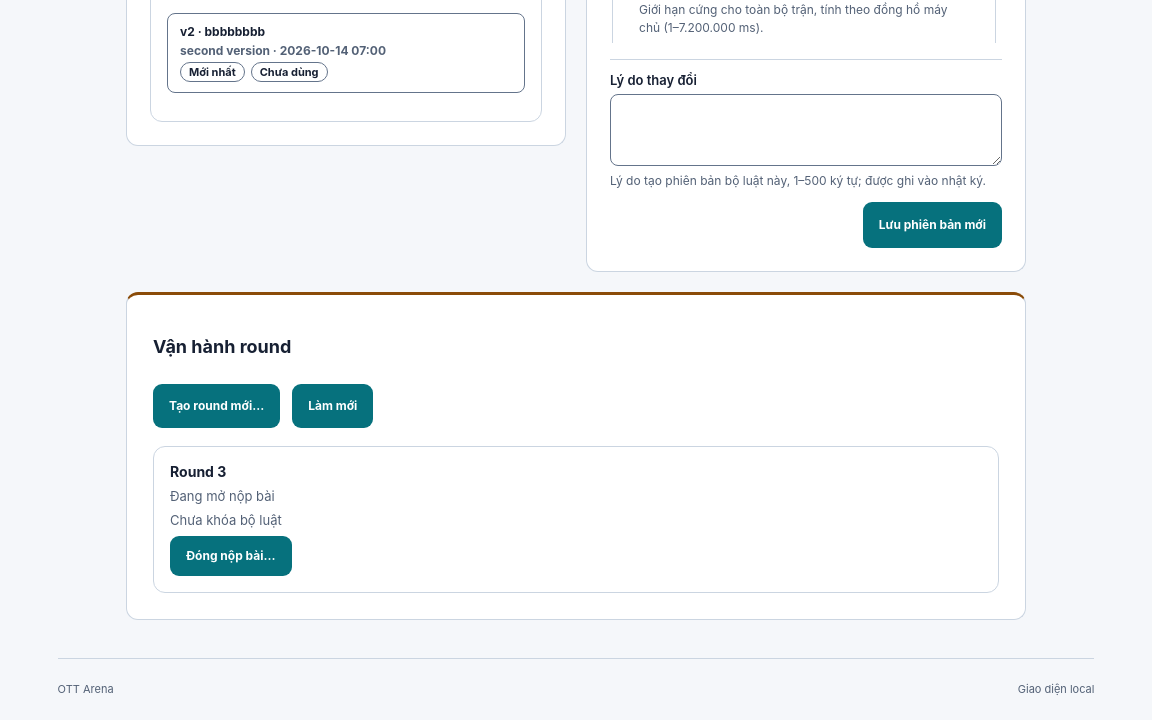
Test: RoundAdmin close errors and UX improvements (loop 104) › explains ROUND_RULE_SET_MISSING
(page scrolled)
Expected: the heading "Round 3" is shown, [170,462,226,480]
Click the button "Đóng nộp bài…" at [231, 556], box [170,536,292,576]
(page scrolled)
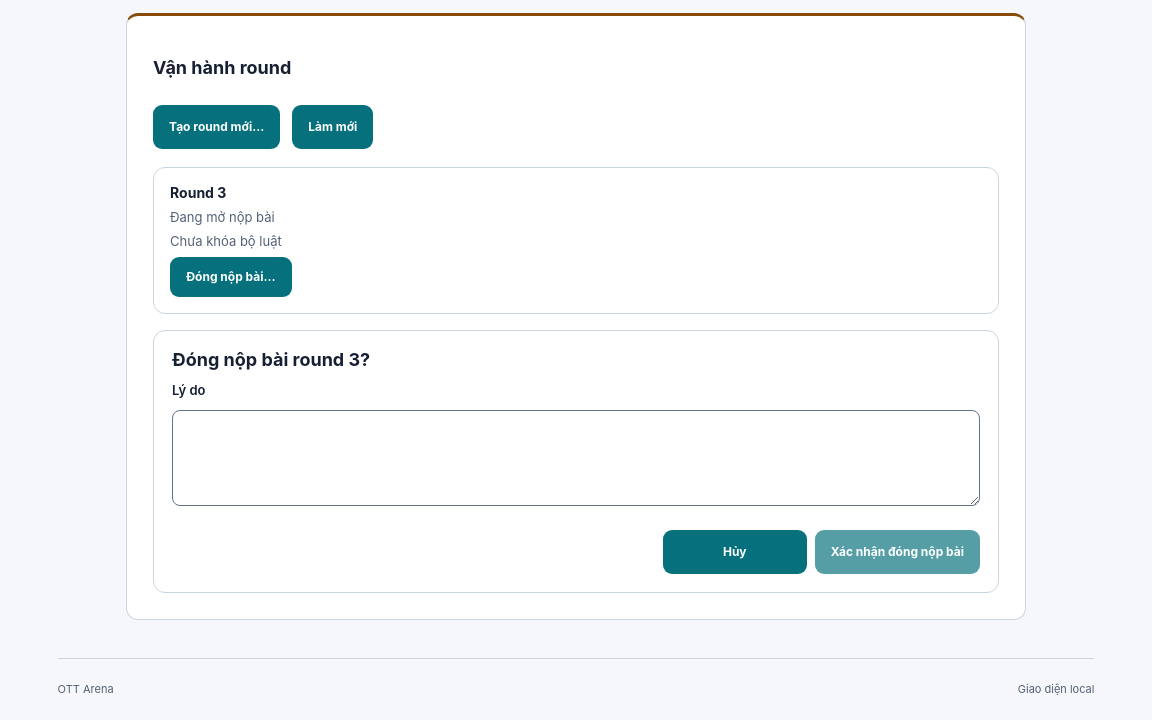
Type "Đóng nộp bài" into the text box labelled "Lý do" at [576, 458], box [172,410,980,506]
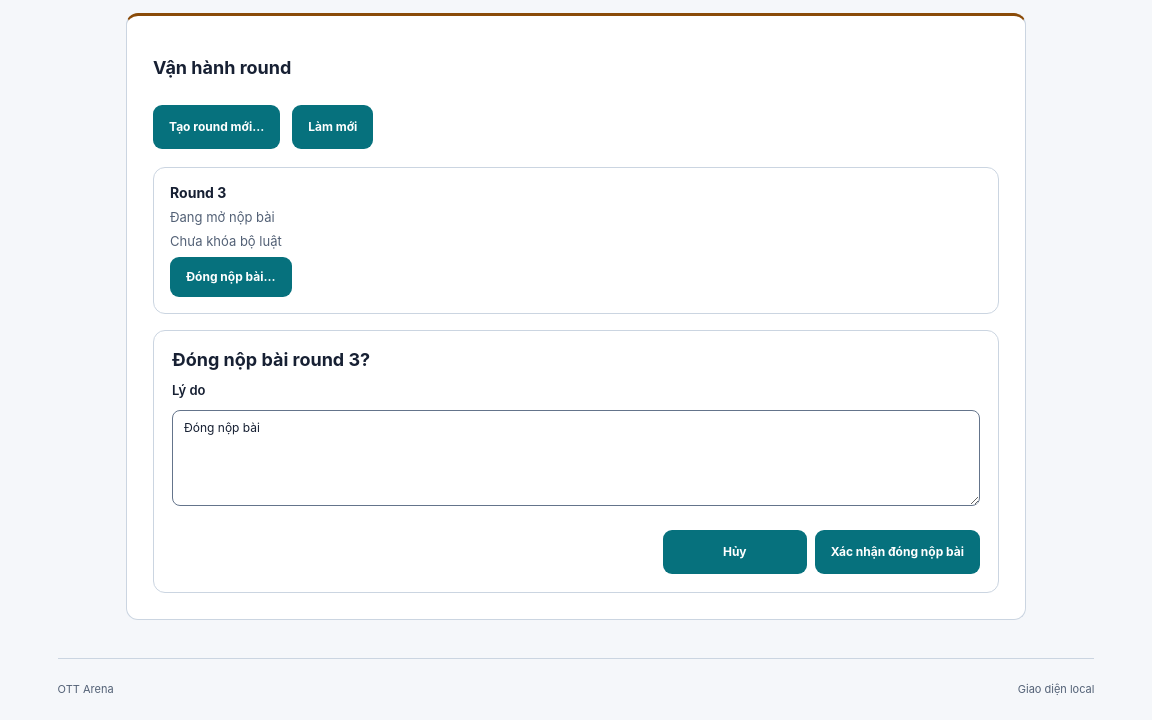
Click the button "Xác nhận đóng nộp bài" at [897, 552], box [815,530,980,574]
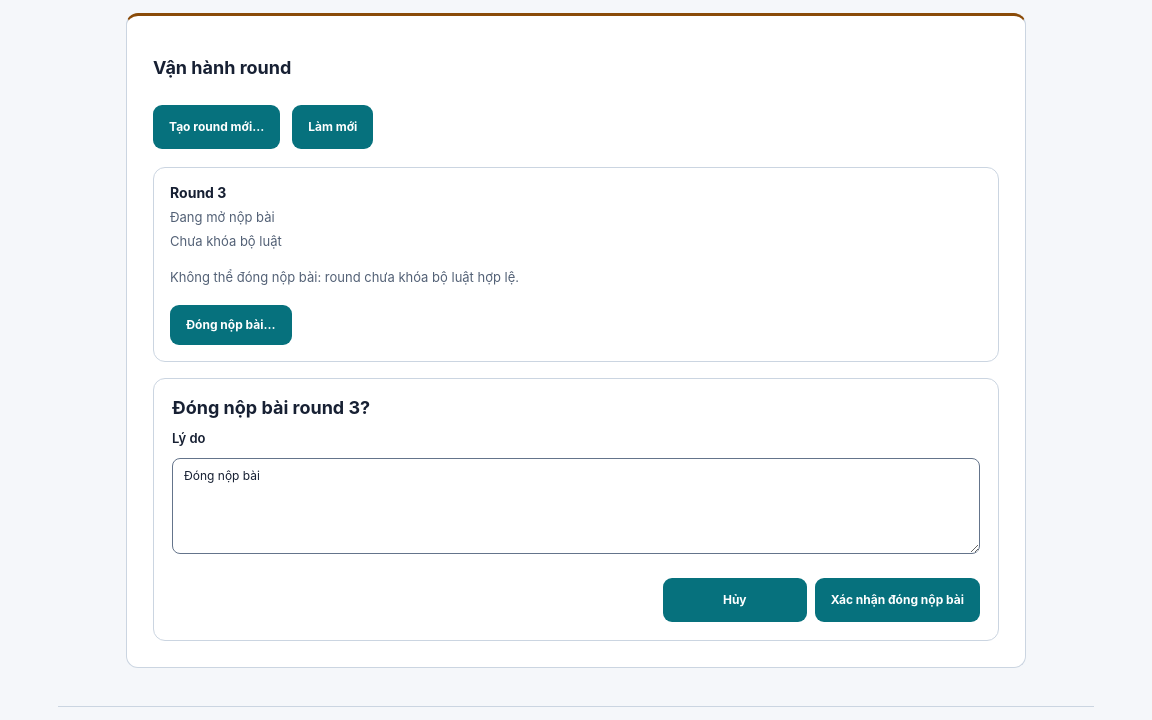
Expected: the text "Không thể đóng nộp bài: round chưa khóa bộ luật hợp lệ." is shown, [170,268,519,284]
